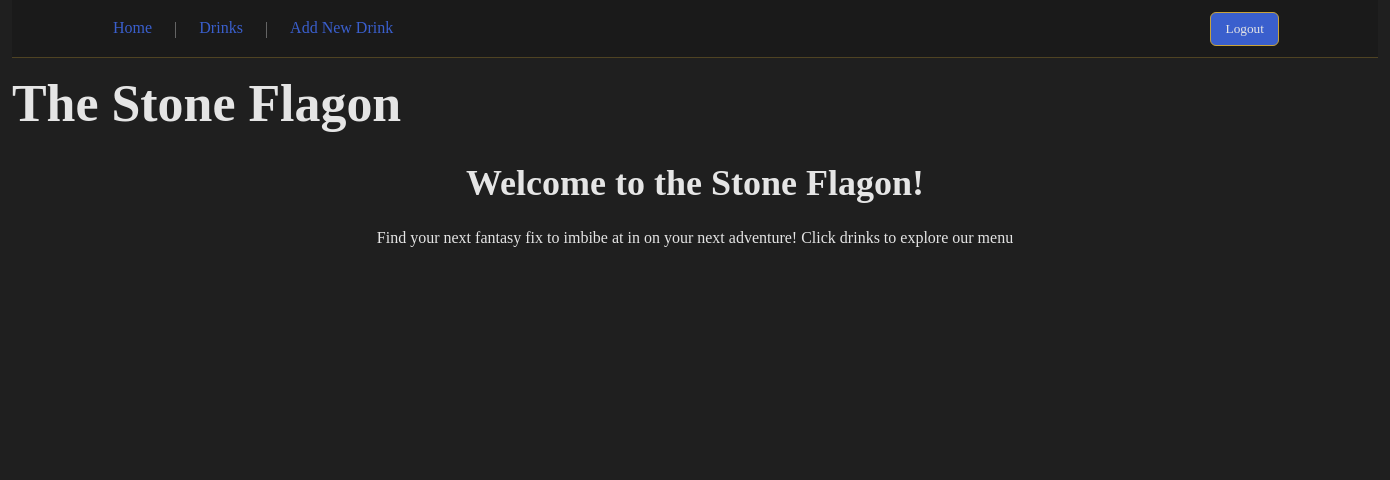
Test: Routing › navigates to Add New Drink when admin
// As admin, "Add New Drink" should be visible & clickable
Click the link "Add New Drink": (342, 28) [290,19,393,36]
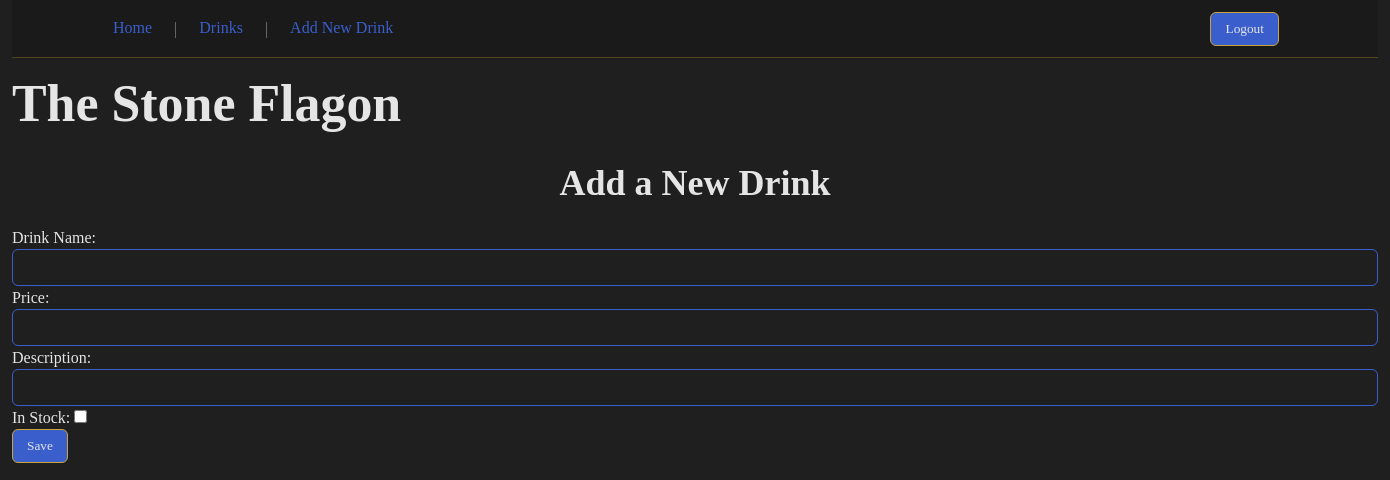
Check: the heading "Add a New Drink" is shown, box [560,163,830,203]
